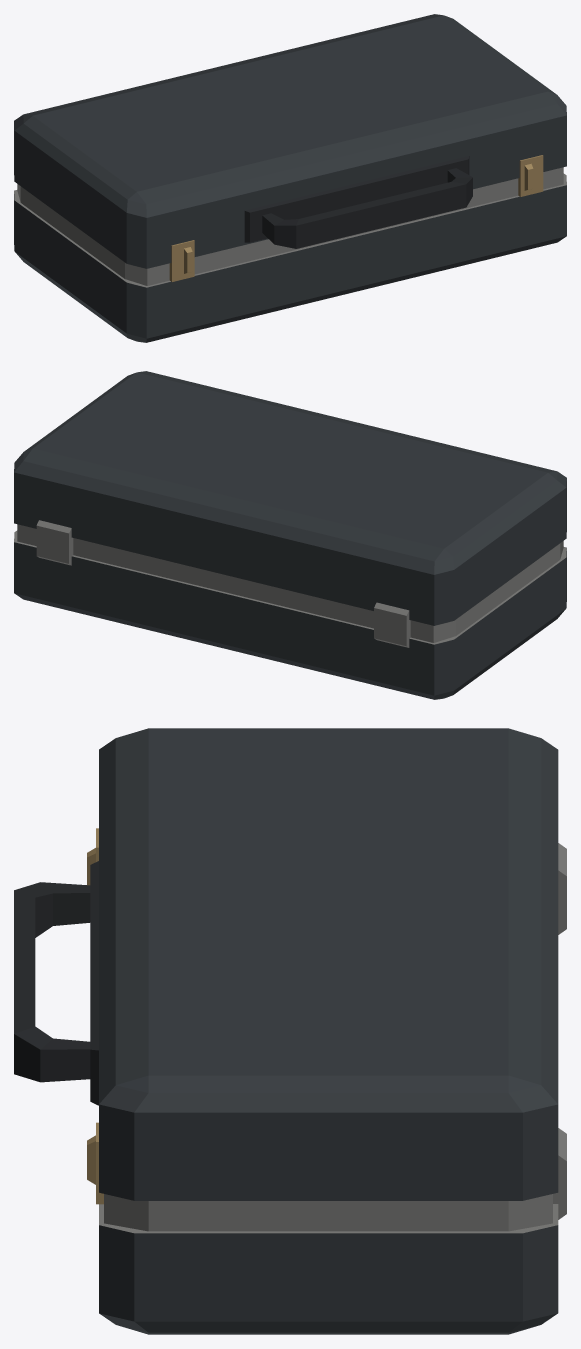
Rendered from SM_Prop_WeaponCase_01.fbx.
3 renders of one model, top to bottom at view 1: azimuth 30°, elevation 25°; view 2: azimuth 150°, elevation 25°; view 3: azimuth 270°, elevation 25°, orthographic. The views are drawn at different scales.
Visible parts, largest first — view 1: SM_Prop_WeaponCase_01_Lid, SM_Prop_WeaponCase_01; view 2: SM_Prop_WeaponCase_01_Lid, SM_Prop_WeaponCase_01; view 3: SM_Prop_WeaponCase_01_Lid, SM_Prop_WeaponCase_01.
Part boxes in pixels (x1,y1,x2,y2): SM_Prop_WeaponCase_01_Lid: (14,14,566,281); SM_Prop_WeaponCase_01: (14,173,566,342); SM_Prop_WeaponCase_01_Lid: (14,371,566,633); SM_Prop_WeaponCase_01: (14,520,566,699); SM_Prop_WeaponCase_01_Lid: (14,728,558,1215); SM_Prop_WeaponCase_01: (99,843,566,1334).
Size of the model in its own units: 72.68 by 23.65 by 45.75.
